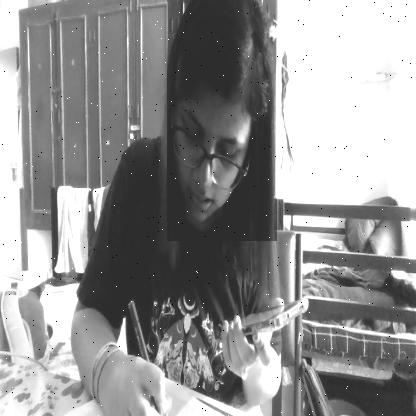Normal: (168, 0, 278, 241)
